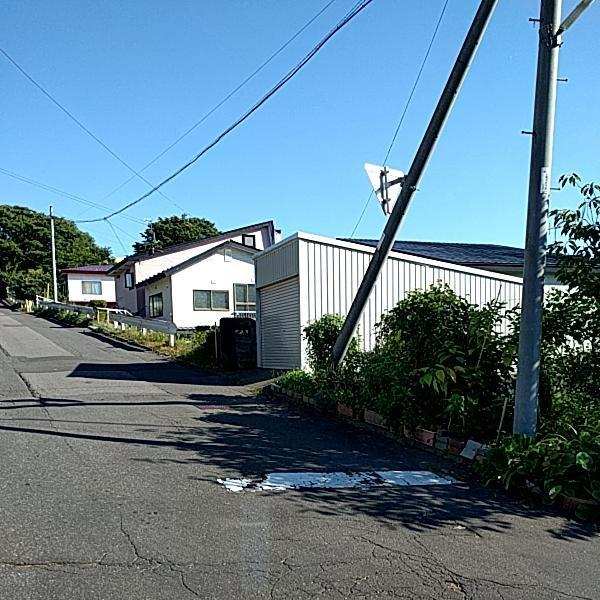pothole: (444, 578, 463, 595)
